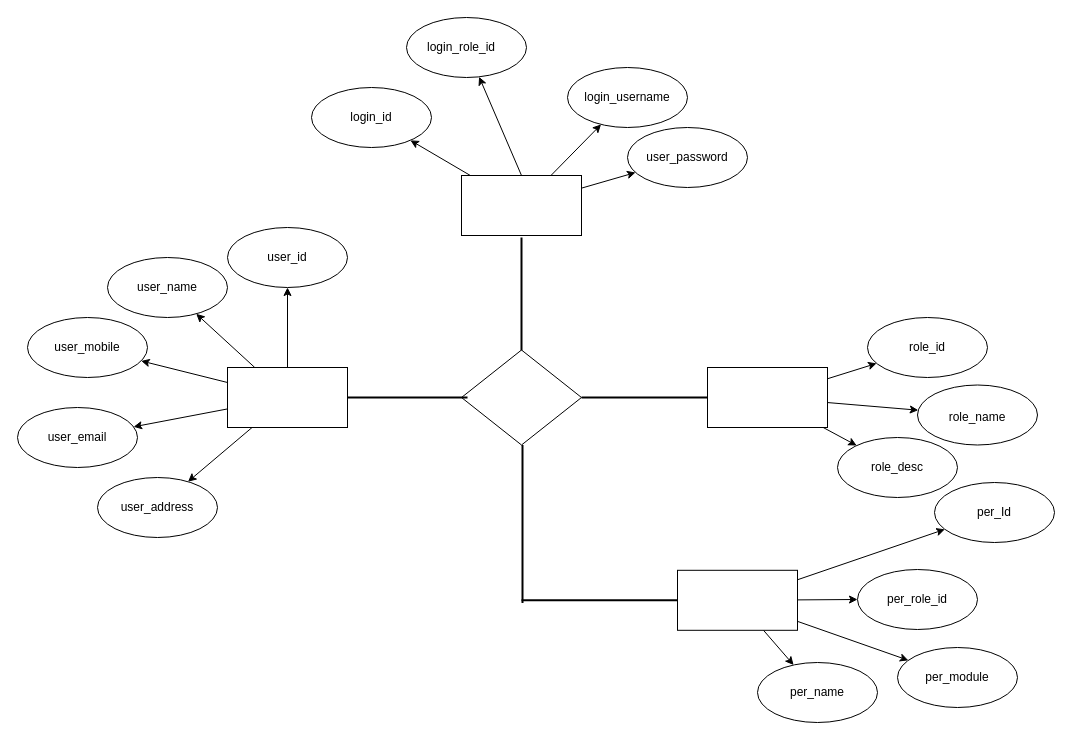
The diagram is 1072 pixels wide and 740 high, and some of its shapes have lost their labels. Each missing label, with the centre of its shape:
"Has" belongs at [521,397].
"Login" belongs at [521,205].
"Permission" belongs at [737,599].
"Roles" belongs at [767,397].
"User" belongs at [287,397].
